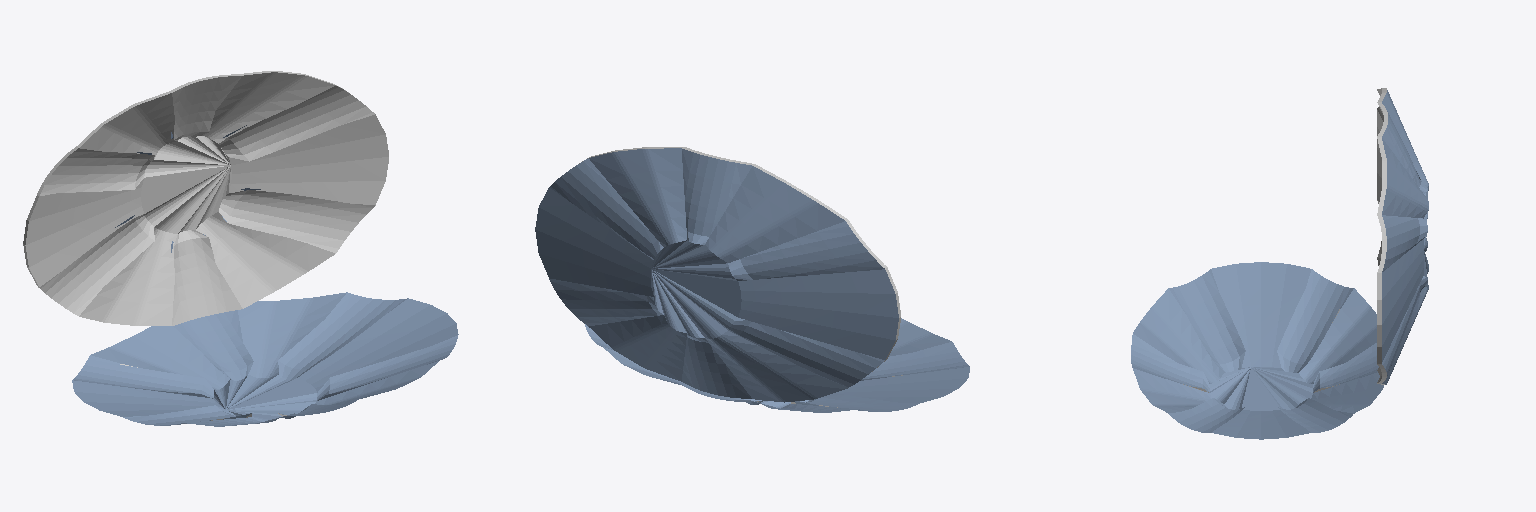
3 views of the same model, side by side, from view 1: azimuth 30°, elevation 25°; view 2: azimuth 150°, elevation 25°; view 3: azimuth 270°, elevation 25° (orthographic).
Parts seen in each view (by area): view 1: almeja_Circle.015; view 2: almeja_Circle.015; view 3: almeja_Circle.015.
Boxes of the visible parts, <box> form: almeja_Circle.015: <box>23,71,458,426</box>; almeja_Circle.015: <box>535,147,969,412</box>; almeja_Circle.015: <box>1131,88,1428,439</box>.
Bounding box in the file's own units: 8 × 5.78 × 5.67.
2 materials, 1 textured.